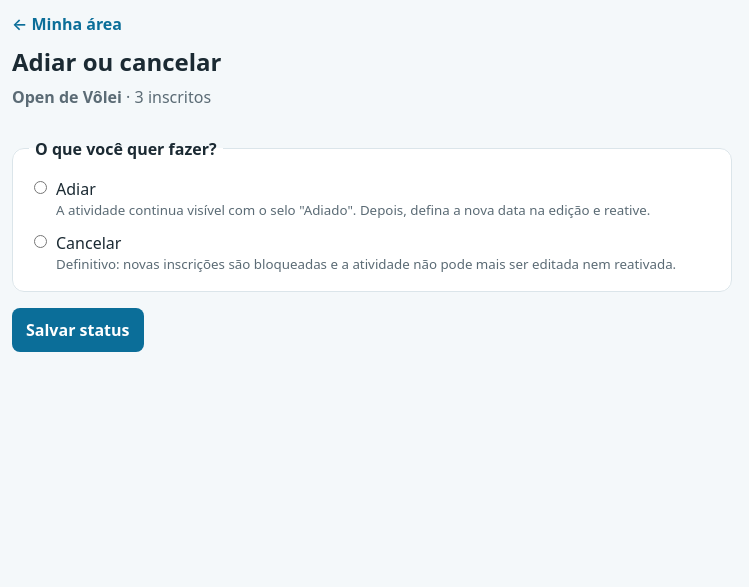
Test: AlterarStatusPage › adia com aviso e informa quantos inscritos foram avisados
Click the radio button labelled "Adiar". click: (40, 187)
box: [34,181,47,194]
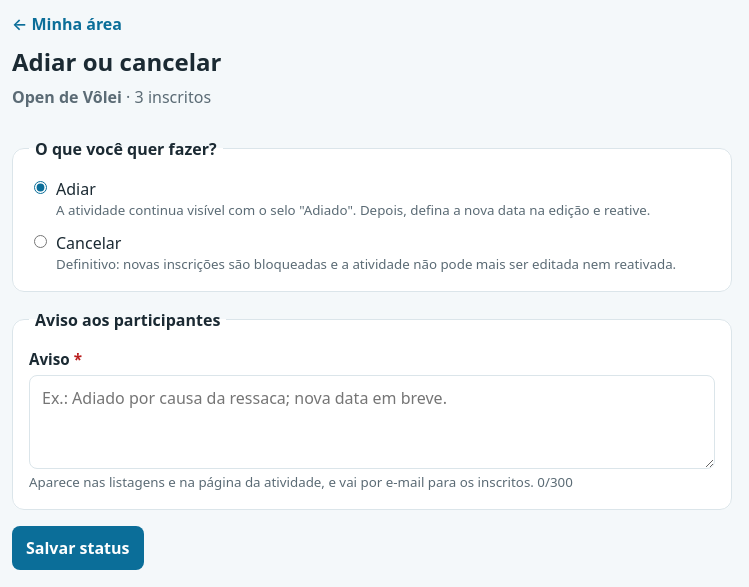
Type " Ressaca no mar; nova data em breve. " into the text box labelled "Aviso *". click: (372, 422)
box: [29,375,715,469]
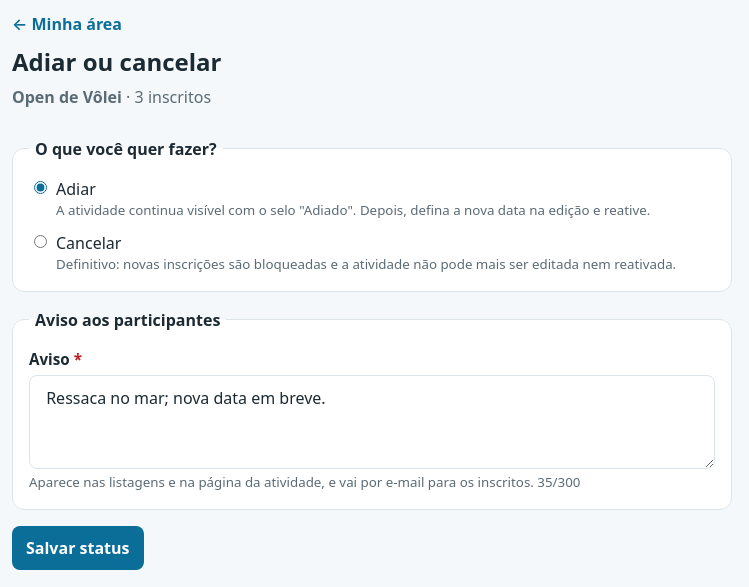
Click the button "Salvar status". click: (78, 548)
box: [12,526,144,570]
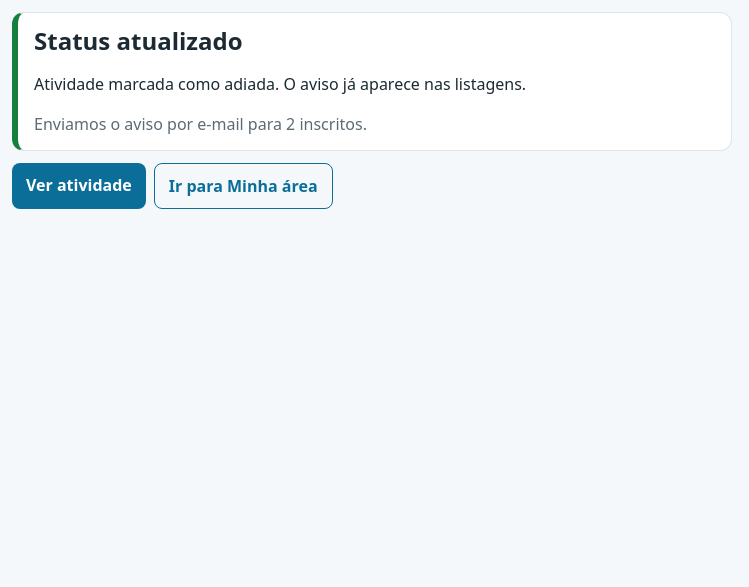
Result: the heading "Status atualizado" is shown at [34,24,243,57]
Result: the text "Enviamos o aviso por e-mail para 2 inscritos." is shown at [34,113,367,135]
